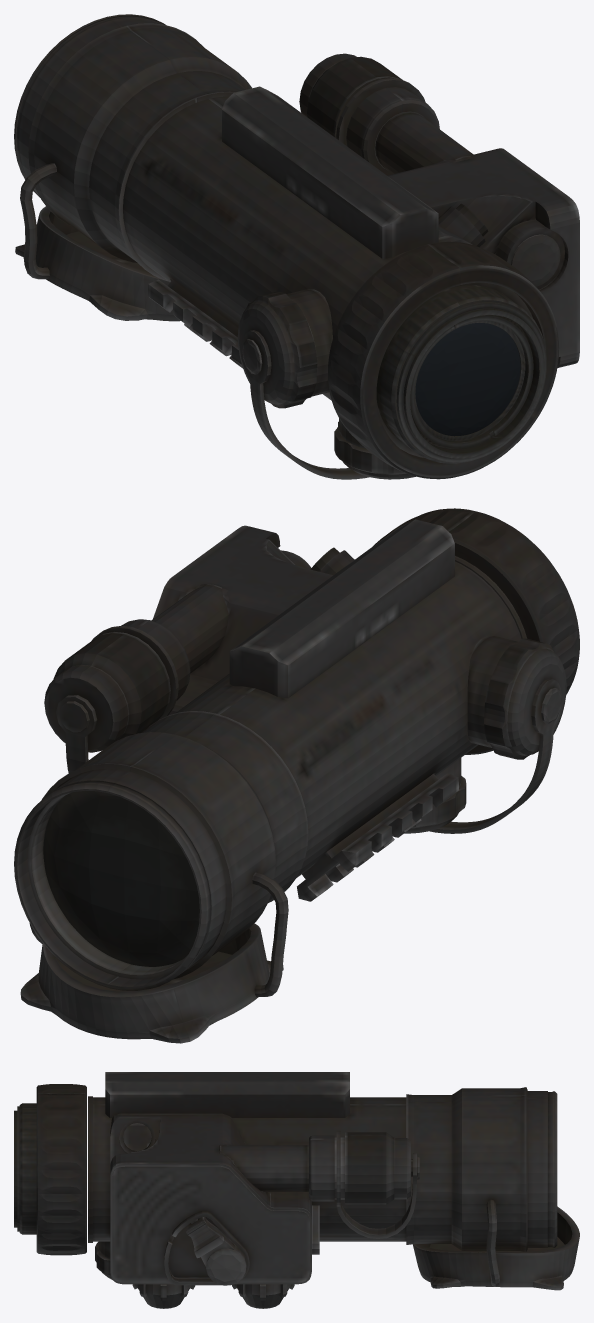
3 views of the same model, one above another, from view 1: azimuth 30°, elevation 25°; view 2: azimuth 150°, elevation 25°; view 3: azimuth 270°, elevation 25° (orthographic). The views are drawn at different scales.
Parts seen in each view (by area): view 1: TW_5b3b6e495acfc4330140bd88_PZ_Import; view 2: TW_5b3b6e495acfc4330140bd88_PZ_Import; view 3: TW_5b3b6e495acfc4330140bd88_PZ_Import.
Part boxes in pixels (x1=…): TW_5b3b6e495acfc4330140bd88_PZ_Import: x1=14, y1=14, x2=579, y2=479; TW_5b3b6e495acfc4330140bd88_PZ_Import: x1=14, y1=508, x2=579, y2=1043; TW_5b3b6e495acfc4330140bd88_PZ_Import: x1=14, y1=1072, x2=579, y2=1308.
Size of the model in its own units: 0.0546 by 0.1081 by 0.0425.
Materials: 1 (1 with a texture image).
